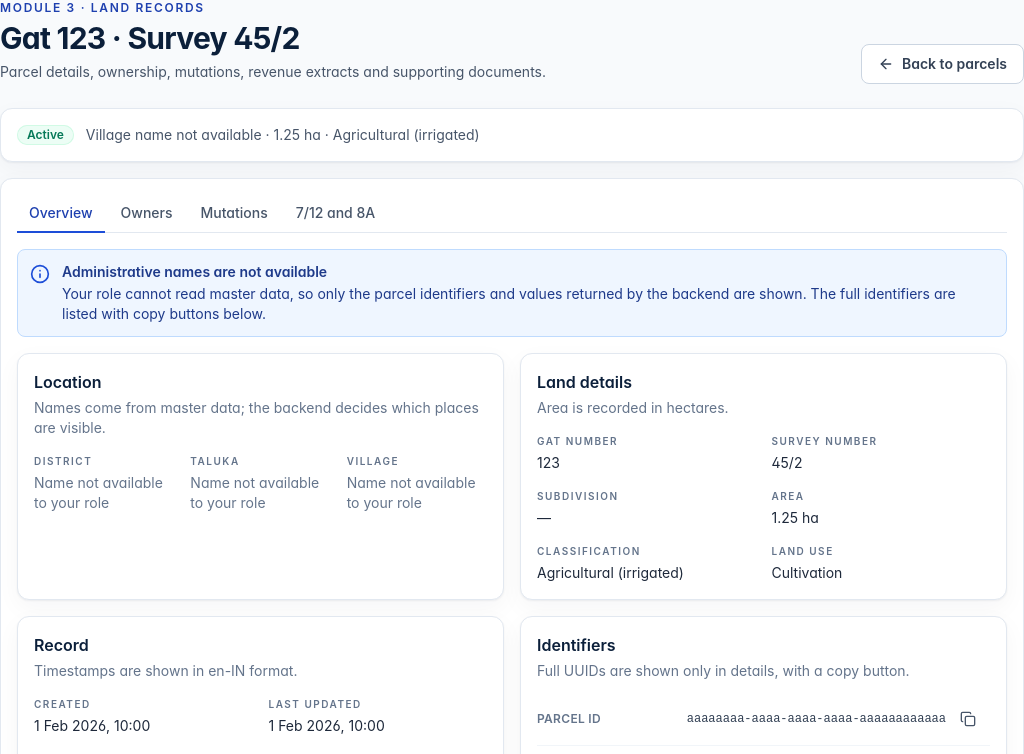
ParcelDetailsPage › hides the documents tab and masks owners for a finance role
Check: the tab "Overview" is shown, box x1=17 y1=195 x2=104 y2=233
Click the tab "Owners" at (146, 214), box x1=108 y1=195 x2=184 y2=233
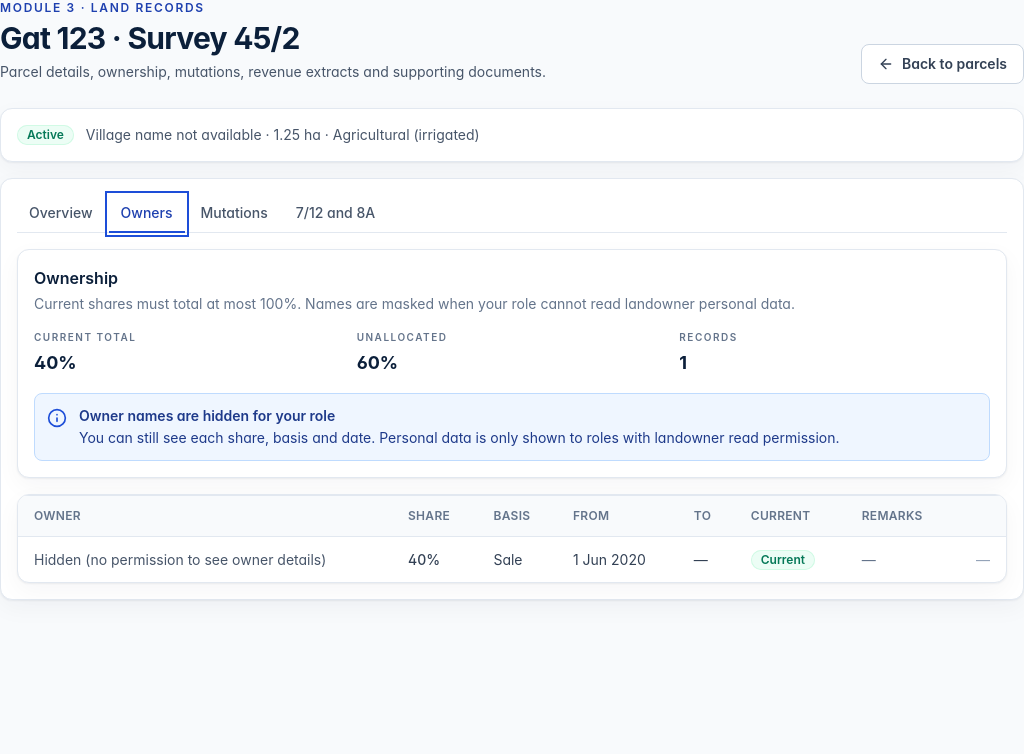
Check: the text "Hidden (no permission to see owner details)" is shown, box x1=34 y1=550 x2=326 y2=568
Check: the text "Owner names are hidden for your role" is shown, box x1=79 y1=407 x2=335 y2=424
